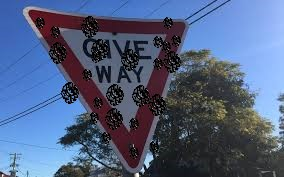giveway: (24, 6, 181, 173), (74, 50, 170, 170), (86, 17, 146, 164), (126, 18, 182, 161), (58, 42, 171, 111)
